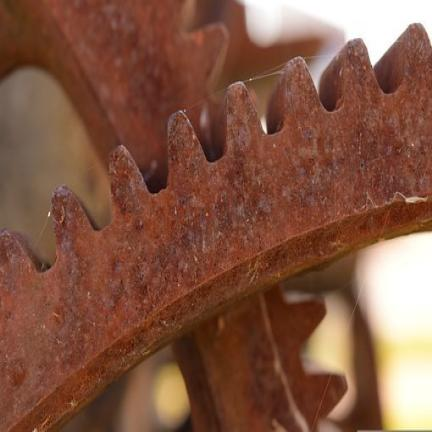karat: (0, 25, 431, 427), (0, 0, 227, 191)
